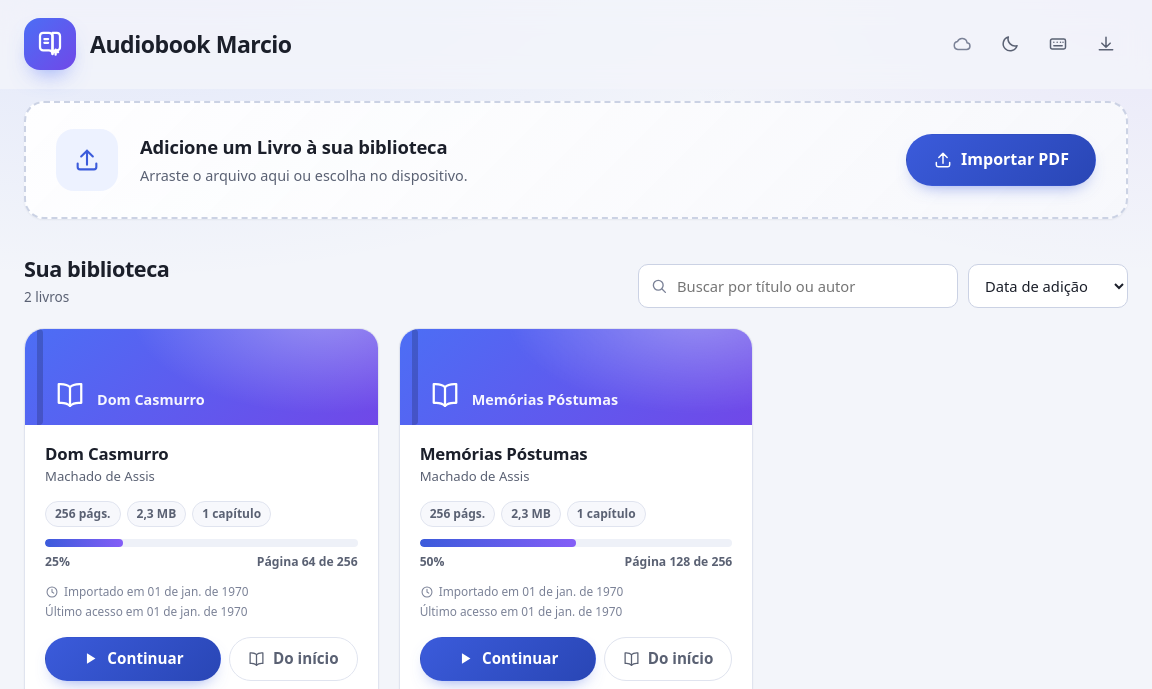
Library › filtra por título ignorando acentos
Type "memorias" into the search field named "Buscar livros por título ou autor" at (798, 286), box [638,264,958,308]
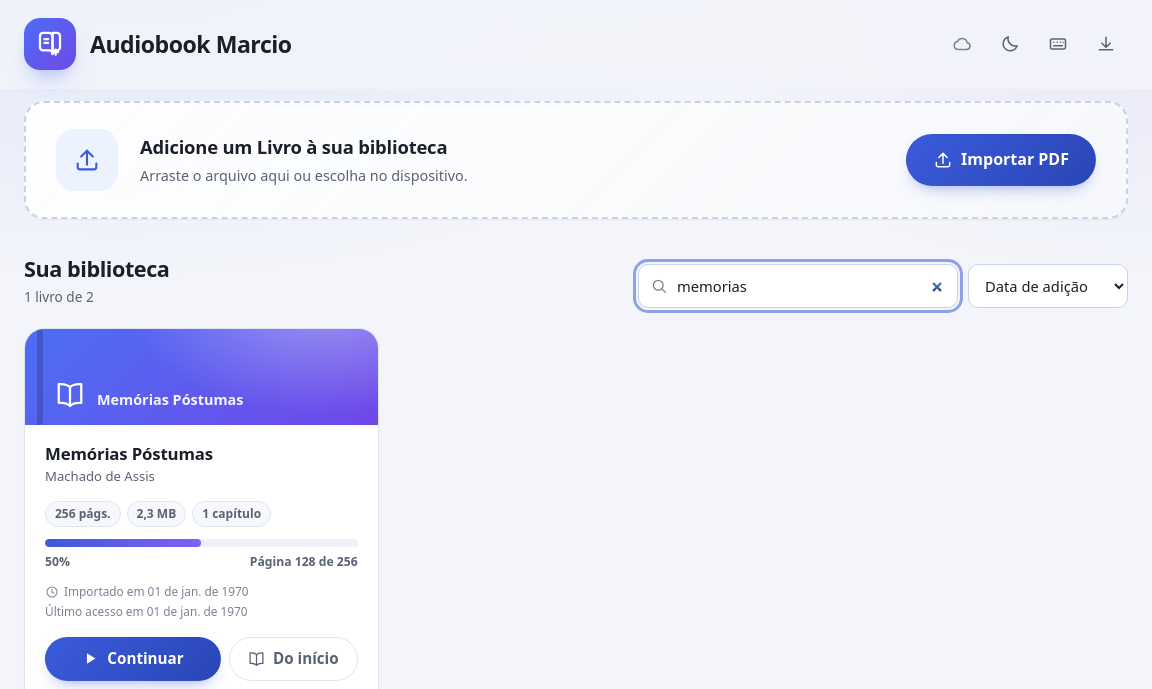
Expected: the heading "Memórias Póstumas" is shown, [45,442,213,465]
Expected: the text "Dom Casmurro" is gone
Clear the search field named "Buscar livros por título ou autor" at (798, 286), box [638,264,958,308]
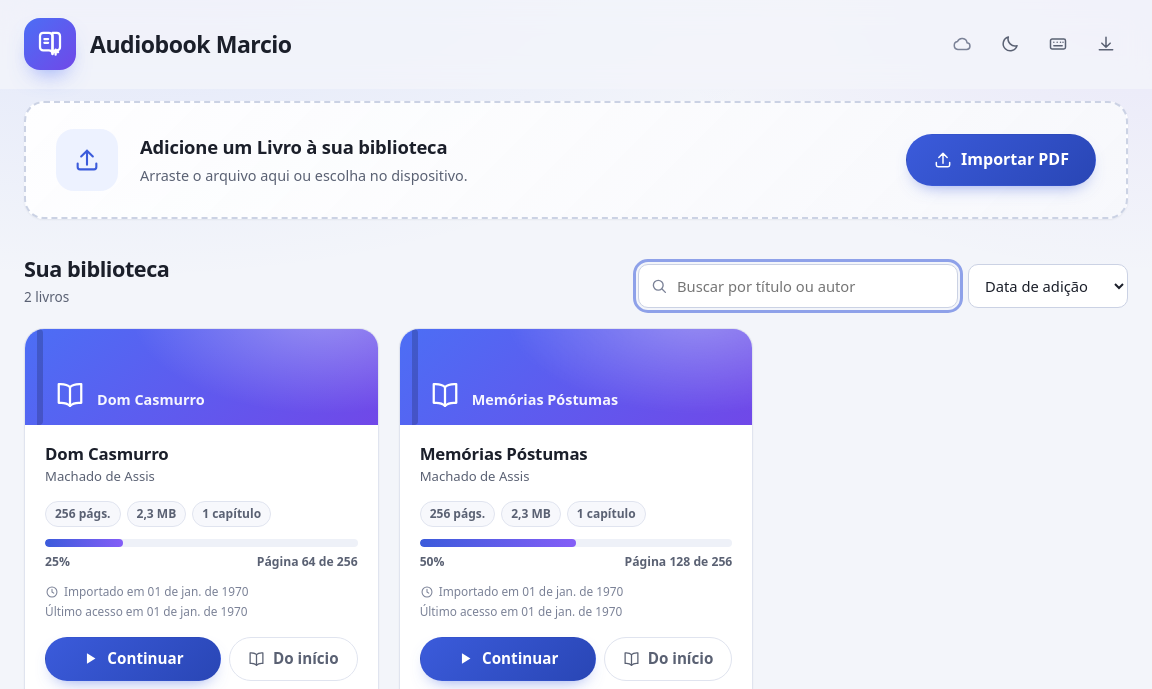
Expected: the heading "Dom Casmurro" is shown, [45,442,169,465]
